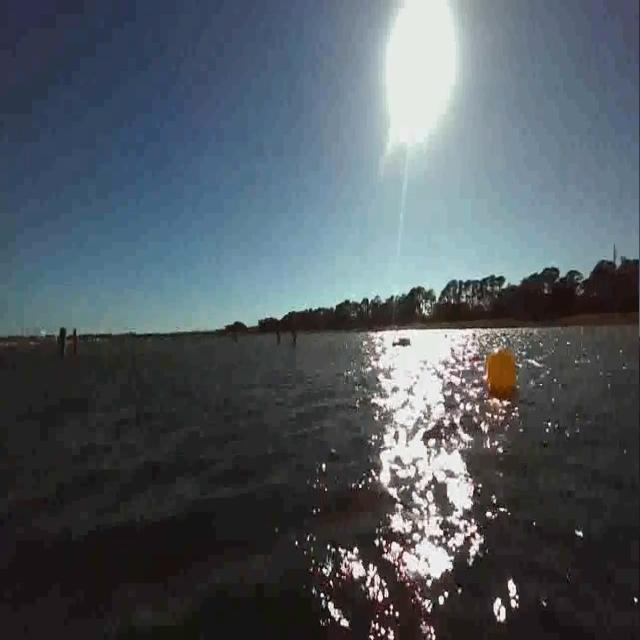green-column-buoy: (58, 323, 68, 363)
red-column-buoy: (70, 327, 80, 358)
yellow-buoy: (484, 346, 518, 396)
